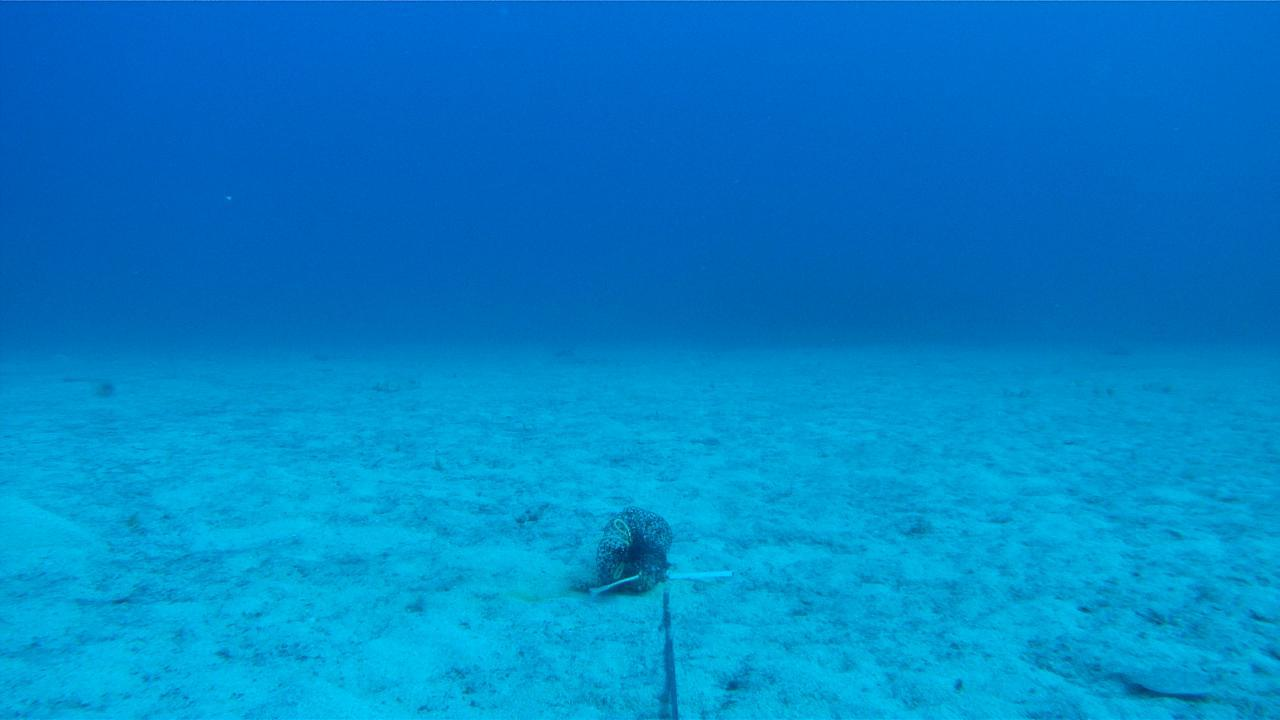bothus: (1109, 666, 1216, 704)
